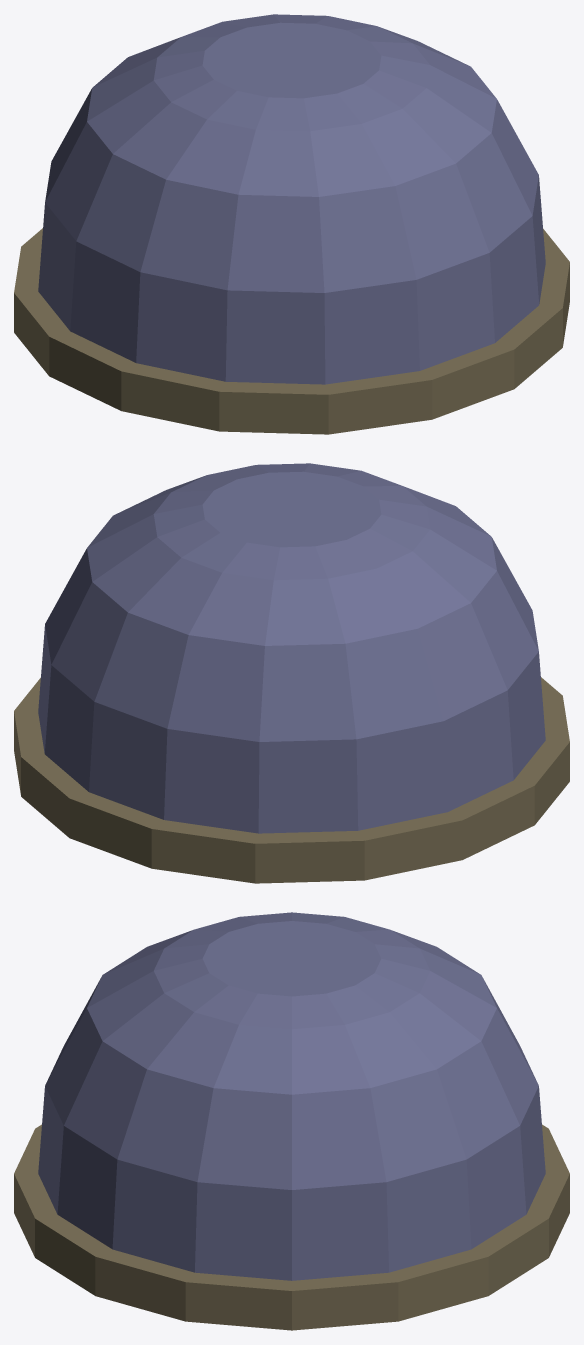
The model's file is Farm.fbx.
The picture shows the model from 3 angles, top to bottom: view 1: azimuth 30°, elevation 25°; view 2: azimuth 150°, elevation 25°; view 3: azimuth 270°, elevation 25°; orthographic projection.
Visible parts, largest first — view 1: Plane.006; view 2: Plane.006; view 3: Plane.006.
Boxes of the visible parts, x1,y1,x2,y2 form: Plane.006: (14, 14, 569, 434); Plane.006: (14, 463, 569, 883); Plane.006: (14, 912, 569, 1330).
Size of the model in its own units: 325 by 164 by 325.
